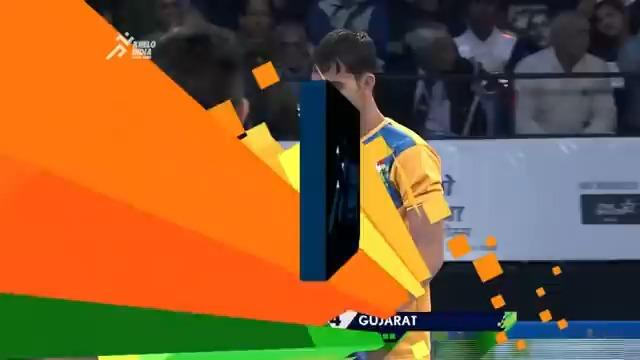Player: (309, 27, 452, 358)
referee: (136, 0, 249, 120), (511, 10, 618, 135), (405, 22, 497, 136)
